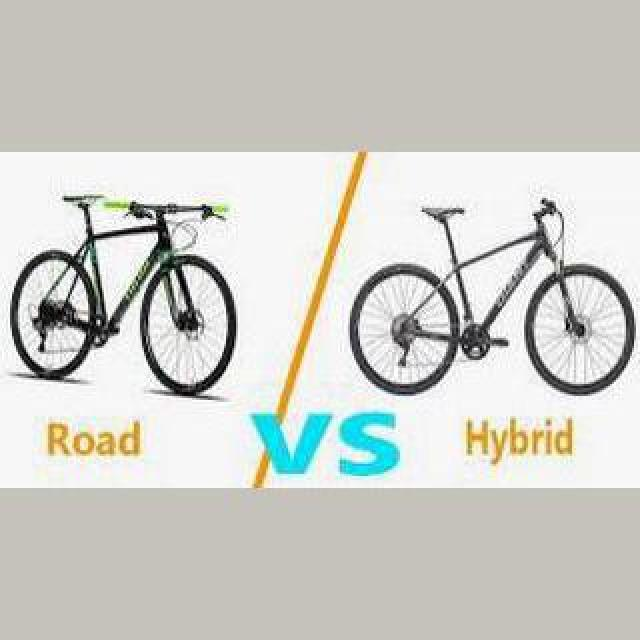Person: (350, 199, 640, 397), (11, 195, 243, 395)
